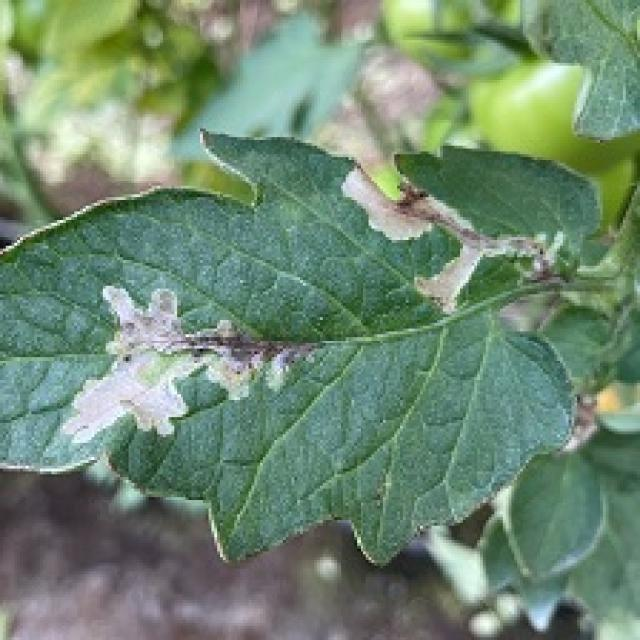Tuta absoluta: (56, 270, 311, 500), (311, 148, 553, 342)
